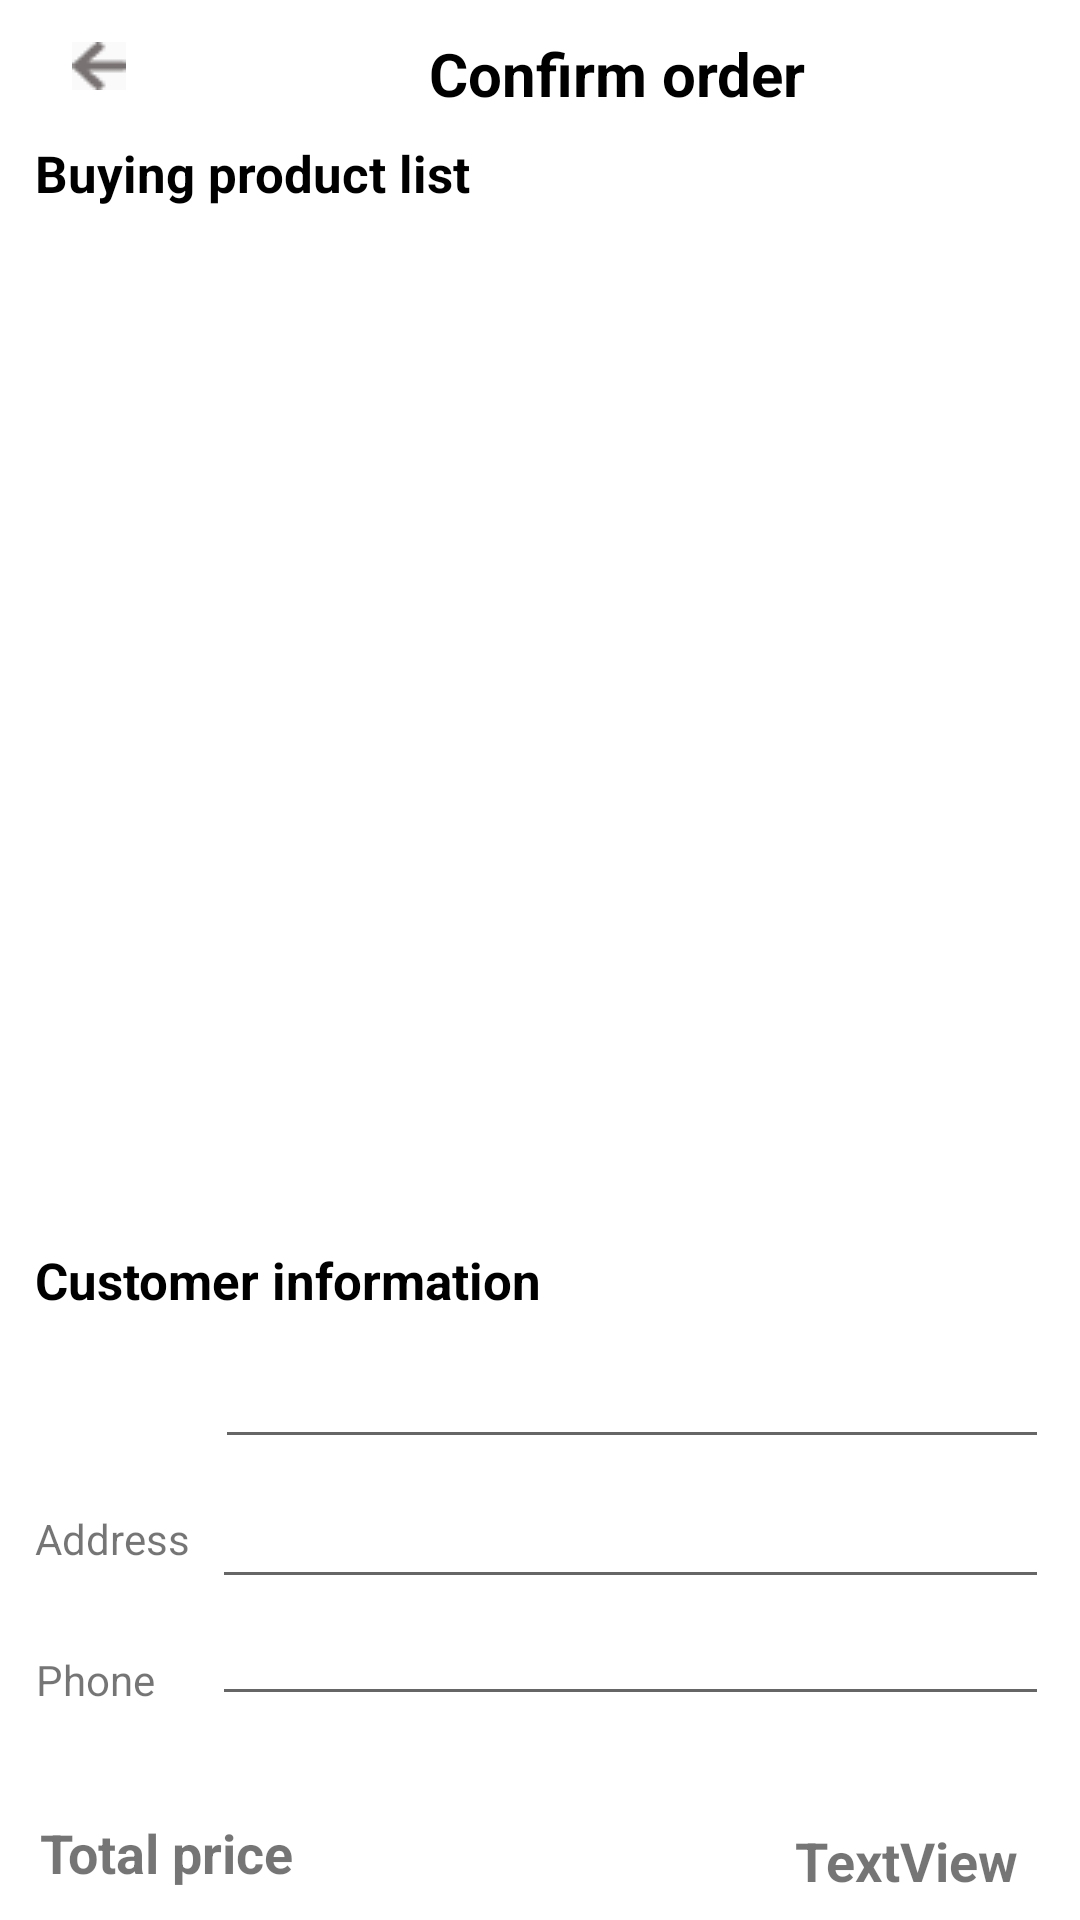

Icon click points for this 1080 x 1920 phone screenshot, format (x=x, y=y):
back: (x=99, y=66)
